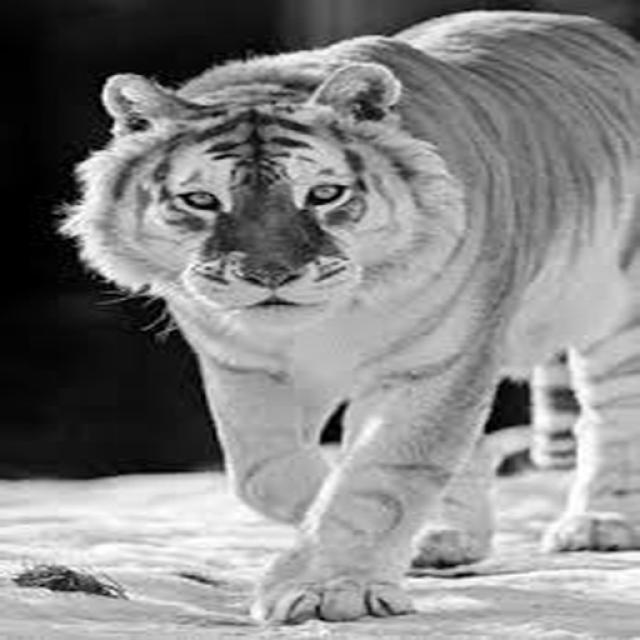Tiger: (54, 5, 638, 626)
